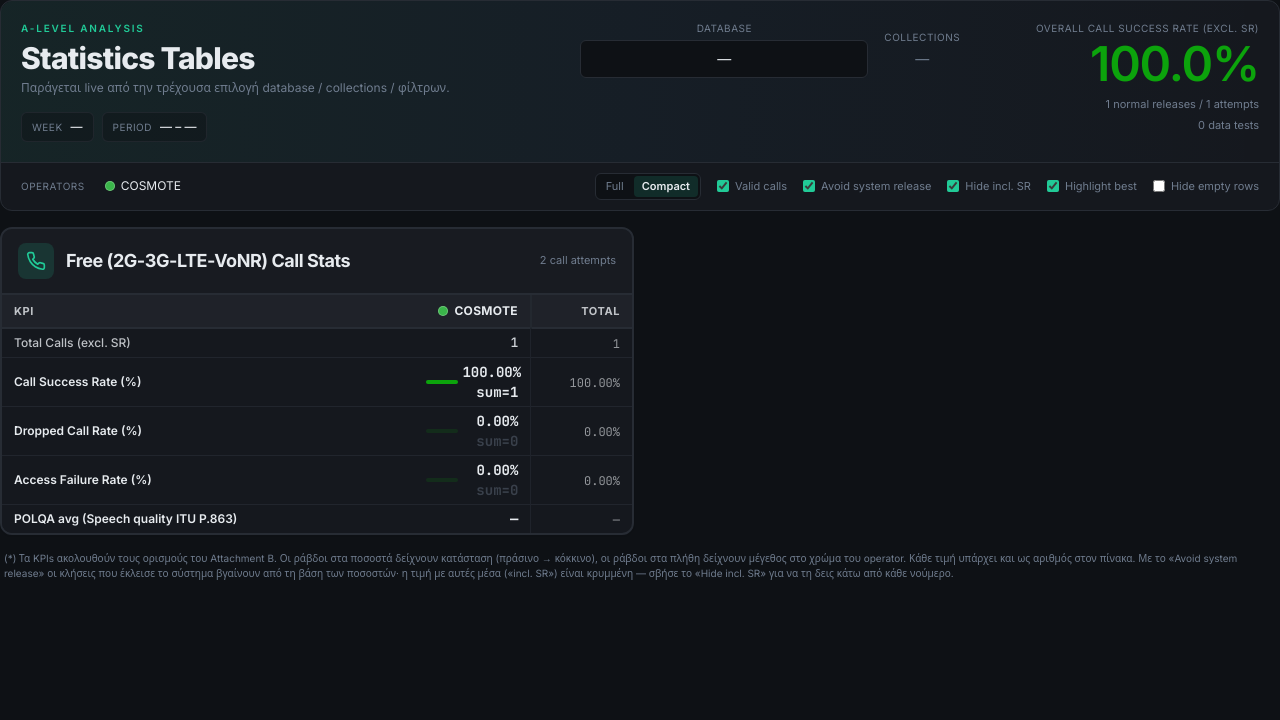
Test: SummaryTab edge cases › toggles › turning off 'Avoid system release' disables 'Hide incl. SR' and removes the incl. SR lines
Click the checkbox labelled "Hide incl. SR": [953, 186] box left=947, top=180, right=959, bottom=192
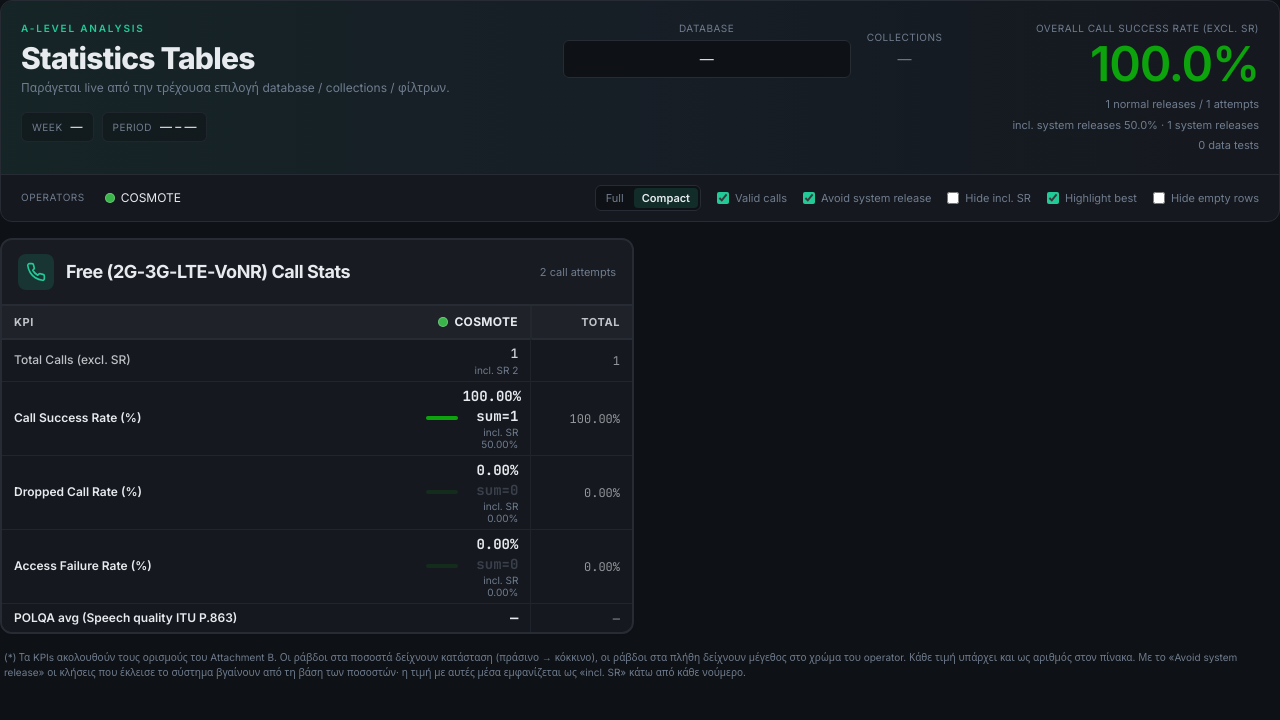
Expected: the text "incl. SR 2" is shown, left=474, top=364, right=518, bottom=376
Click the checkbox labelled "Avoid system release": [809, 198] box left=803, top=192, right=815, bottom=204
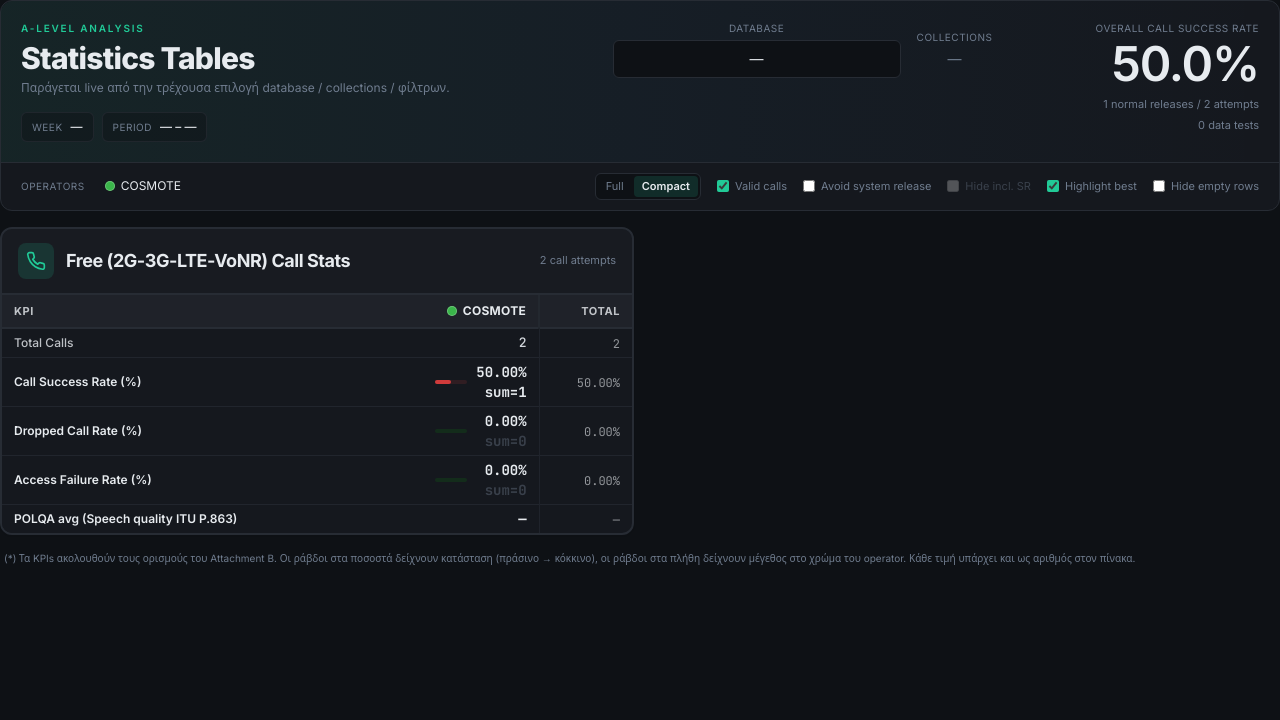
Expected: the checkbox labelled "Hide incl. SR" is disabled, left=947, top=180, right=959, bottom=192
Expected: the text "incl. SR 2" is gone
Expected: the text "Total Calls (excl. SR)" is gone
